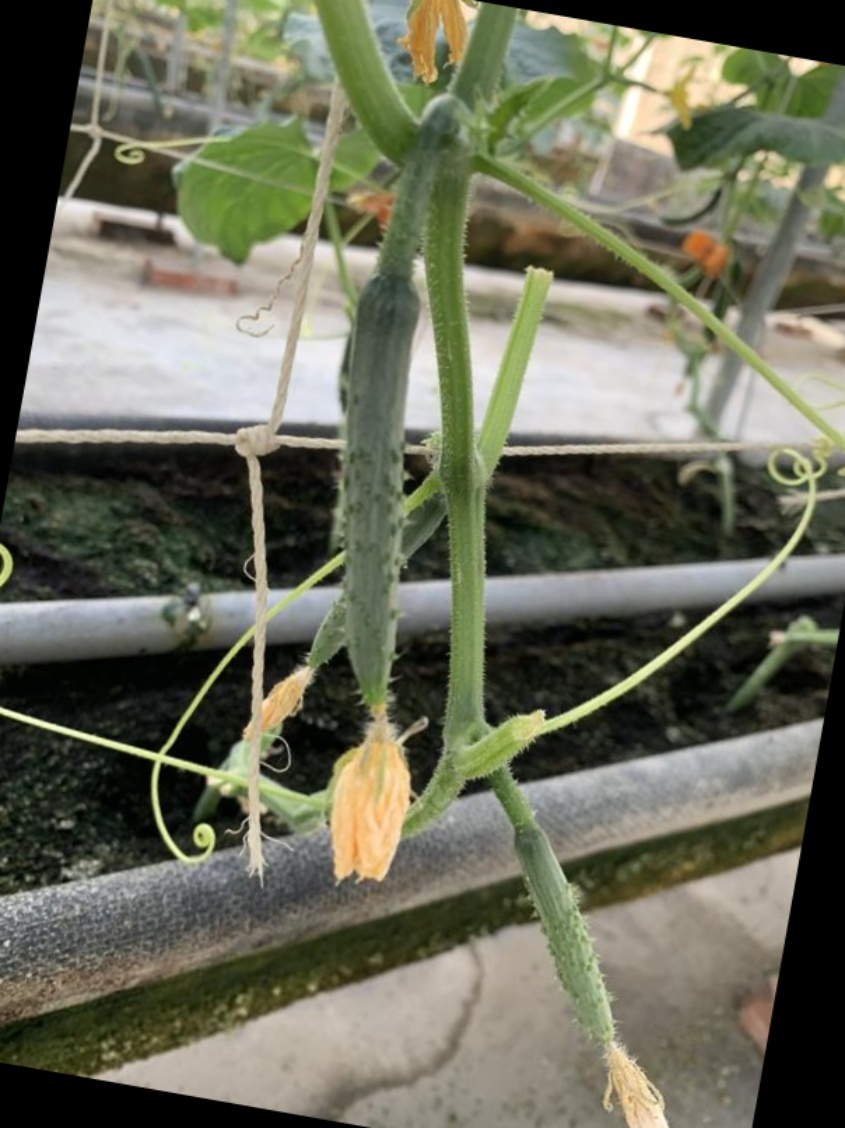bear: (319, 260, 429, 891)
